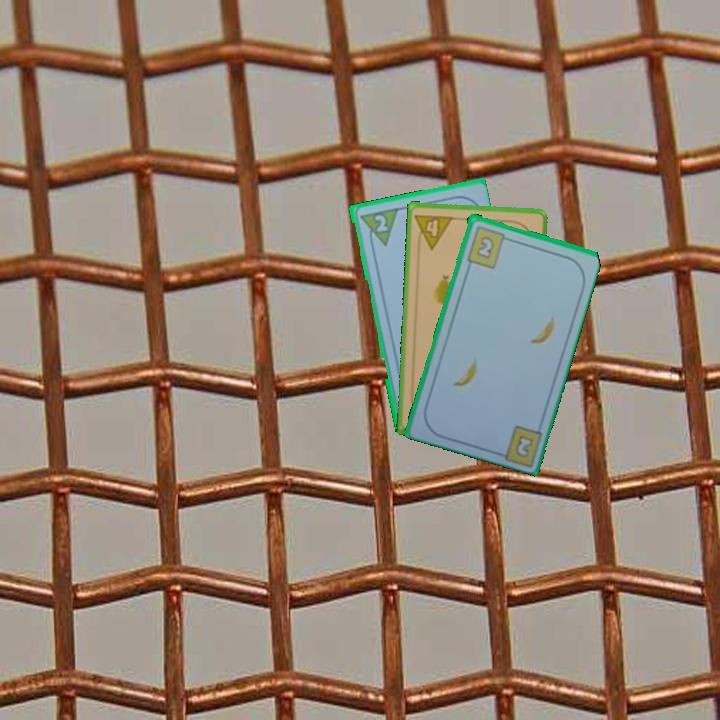2b: (463, 222, 513, 271), (511, 431, 536, 460)
2p: (371, 211, 390, 235)
4p: (411, 210, 456, 251)
